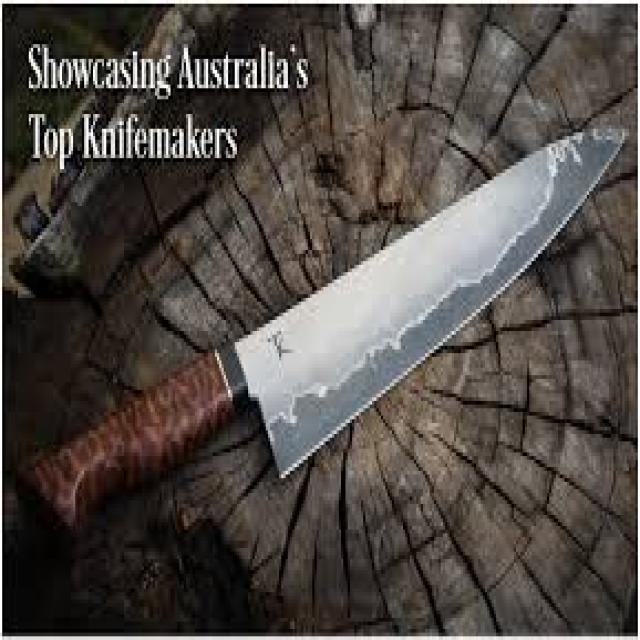knives: (200, 171, 627, 476)
